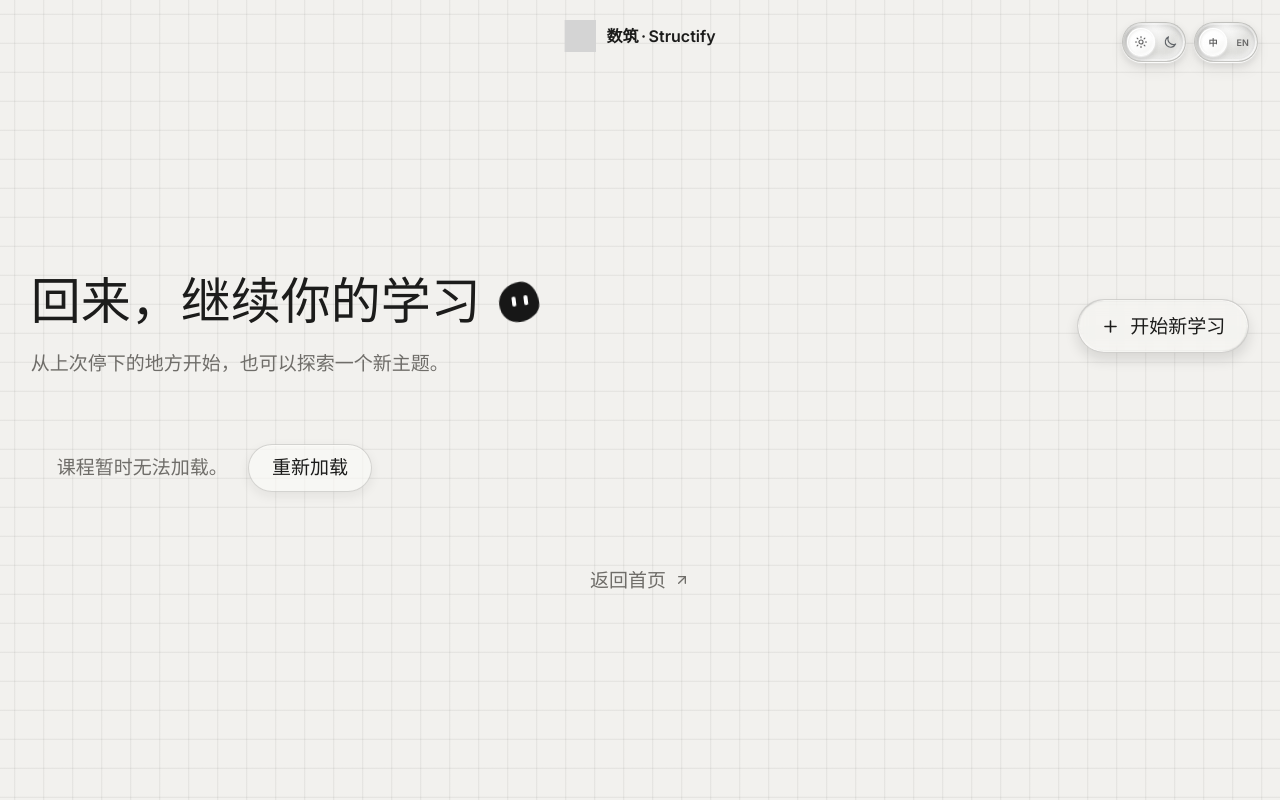
it: learning center › has separate empty and failed states and a retry
Check: the message "课程暂时无法加载。 重新加载" is shown, box [57,444,372,492]
Click the button "重新加载": x=310, y=468 [248,444,372,492]
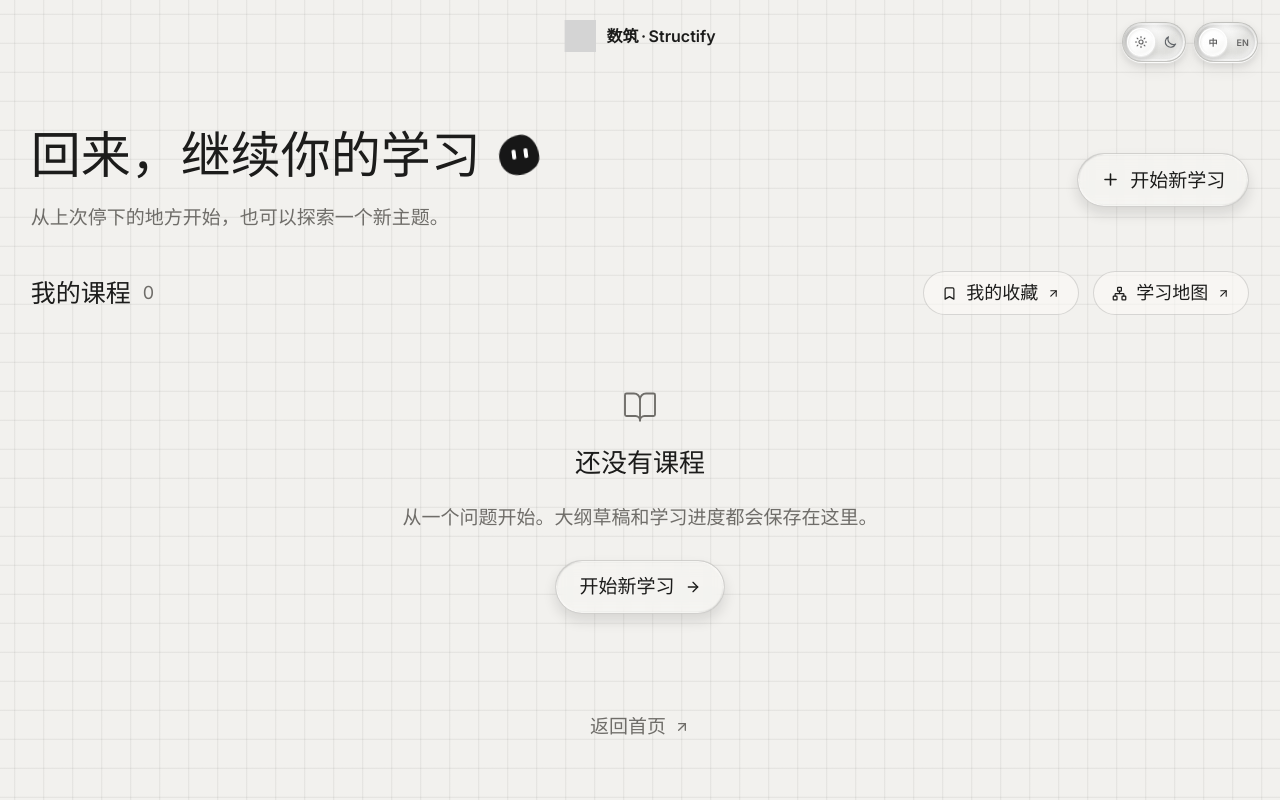
Check: the text "还没有课程" is shown, box [575,443,705,484]
